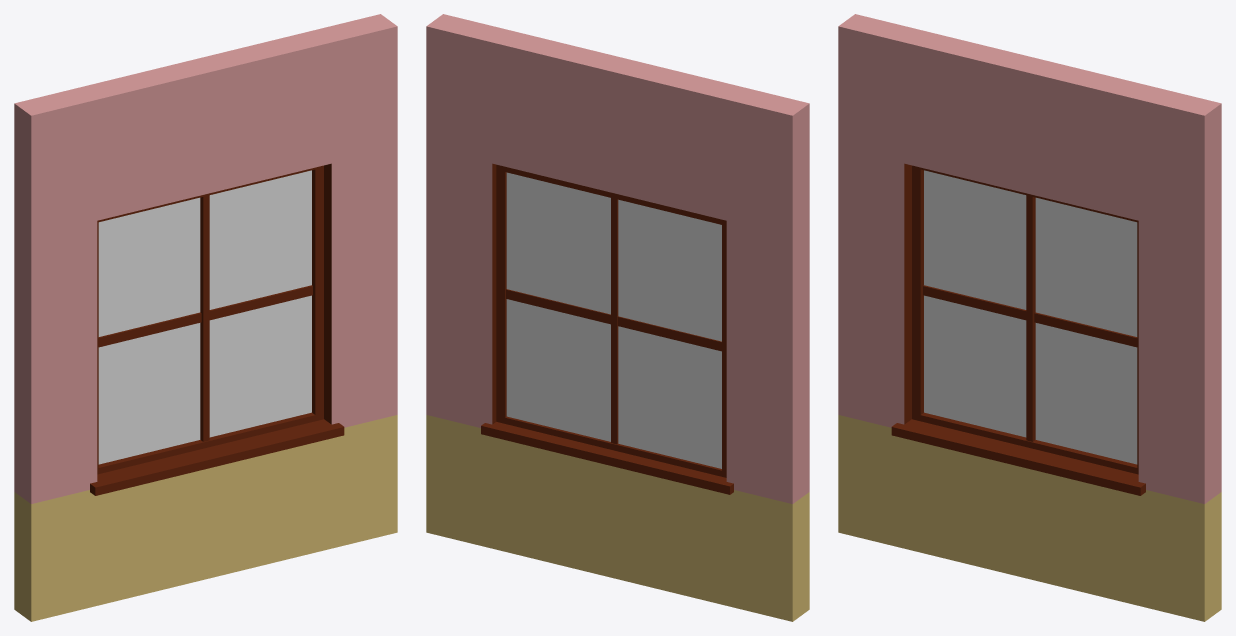
The model's file is window1.fbx.
The picture shows the model from 3 angles, left to right: view 1: azimuth 30°, elevation 25°; view 2: azimuth 150°, elevation 25°; view 3: azimuth 330°, elevation 25°; orthographic projection.
Visible parts, largest first — view 1: wall_window2.001, glass2; view 2: wall_window2.001, glass2; view 3: wall_window2.001, glass2.
Boxes of the visible parts, <box> form: wall_window2.001: <box>14,14,397,621</box>; glass2: <box>98,170,311,464</box>; wall_window2.001: <box>426,14,809,621</box>; glass2: <box>506,172,721,468</box>; wall_window2.001: <box>838,14,1221,621</box>; glass2: <box>924,170,1137,464</box>.
Size of the model in its own units: 211 by 279 by 26.33.
